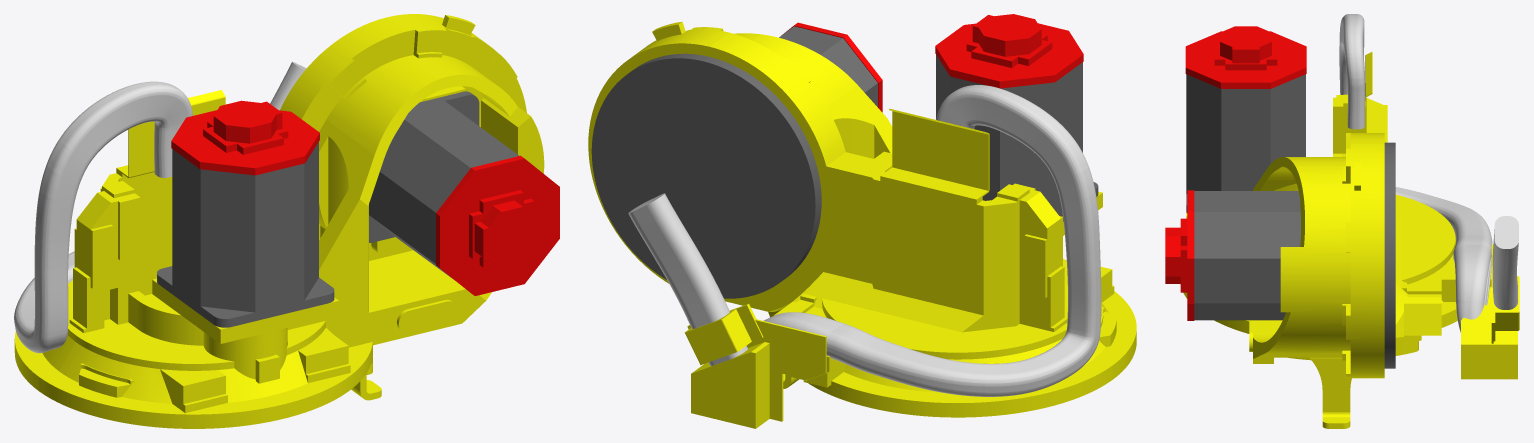
The picture shows the model from 3 angles, left to right: view 1: azimuth 30°, elevation 25°; view 2: azimuth 150°, elevation 25°; view 3: azimuth 270°, elevation 25°; orthographic projection. The views are drawn at different scales.
Visible parts, largest first — view 1: Mesh_0; view 2: Mesh_0; view 3: Mesh_0.
Part boxes in pixels (x1,y1,x2,y2): Mesh_0: (14, 14, 559, 428); Mesh_0: (588, 14, 1136, 428); Mesh_0: (1165, 14, 1519, 428).
Bounding box in the file's own units: 0.7215 × 0.509 × 0.4978.
